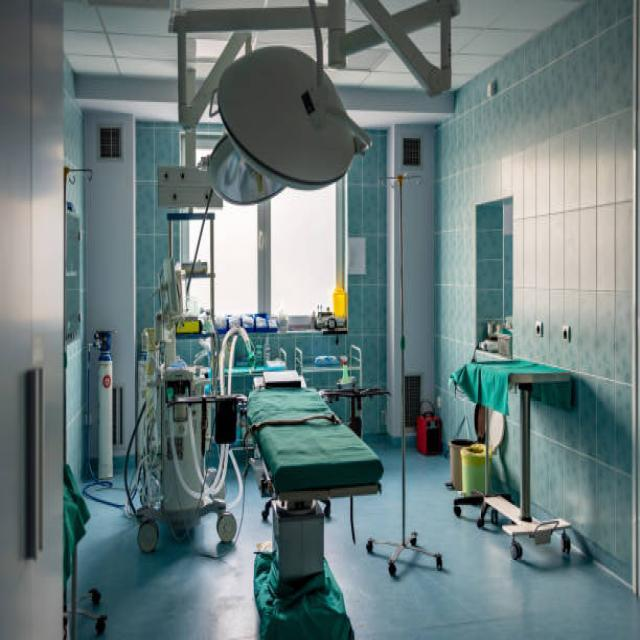Saline Stand: (365, 161, 451, 605)
bed: (244, 346, 386, 640)
bin: (451, 431, 496, 504)
tools_table: (448, 344, 582, 572)
